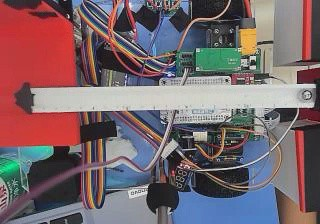ironball: (301, 88, 311, 100)
